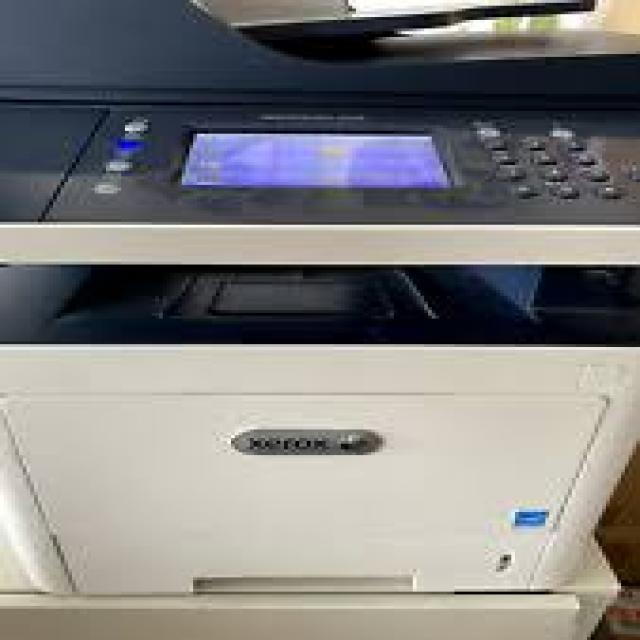printer: (2, 0, 640, 634)
